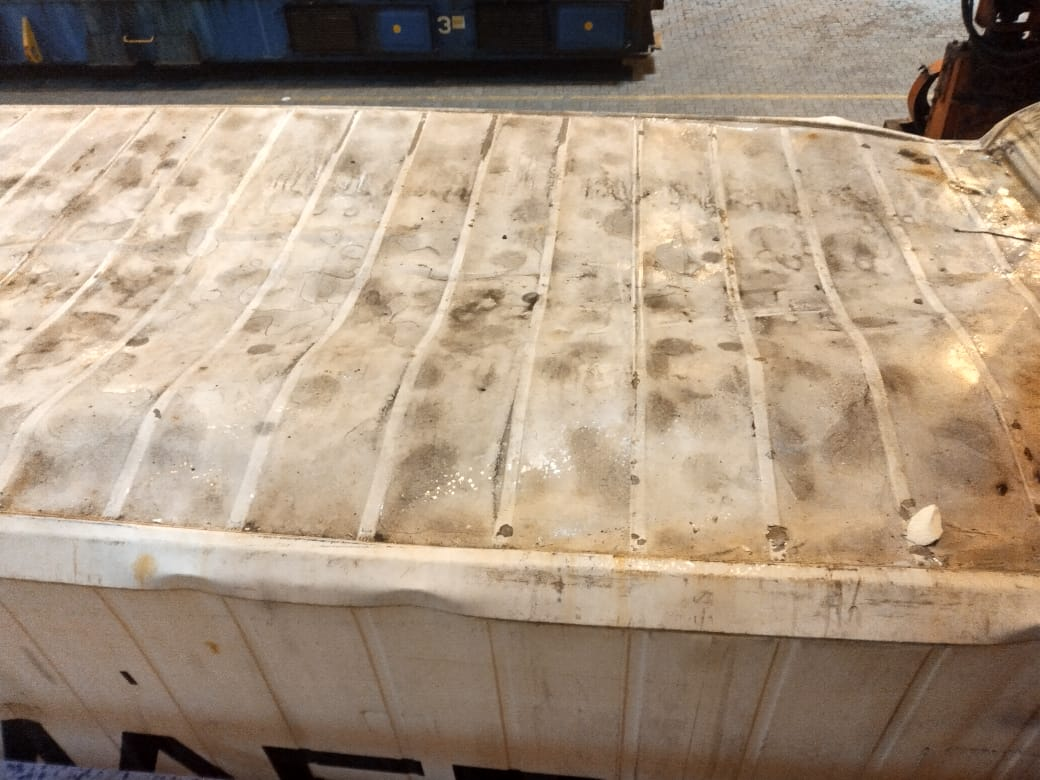bulged: (41, 233, 985, 463)
